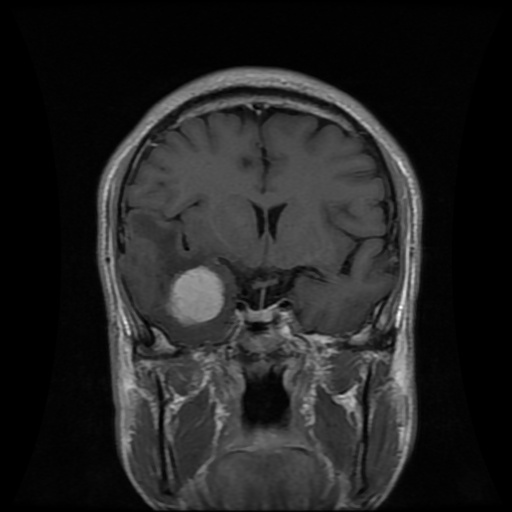meningioma: (166, 265, 224, 328)
